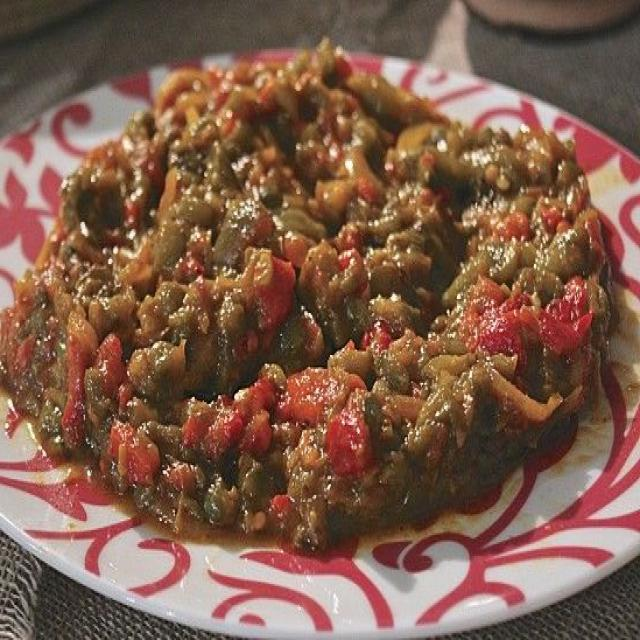Salade mechweya: (4, 51, 630, 605)
